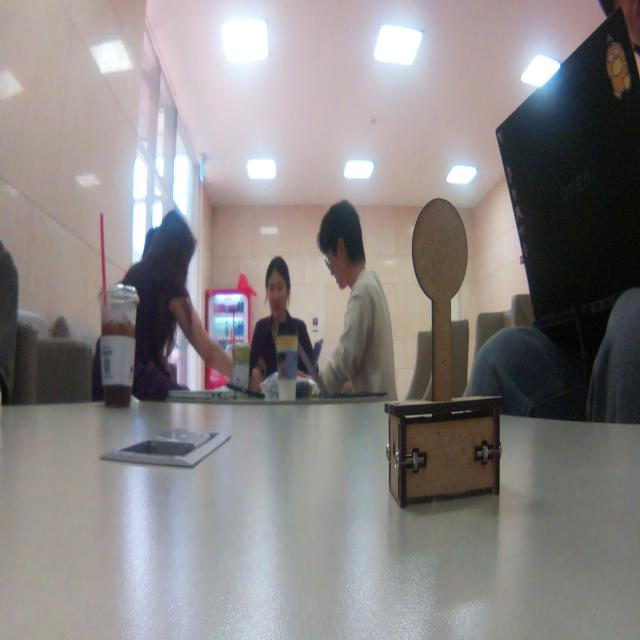target: (385, 198, 502, 510)
